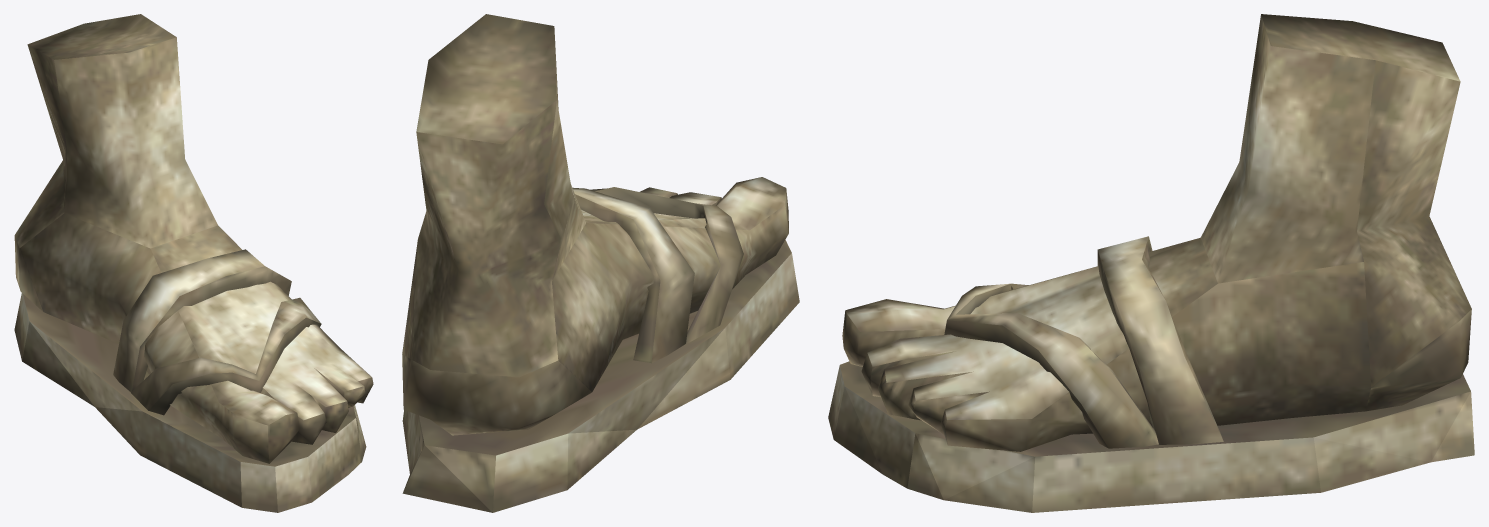
Rendered from ob-bigstatue03.fbx.
3 views of the same model, side by side, from view 1: azimuth 30°, elevation 25°; view 2: azimuth 150°, elevation 25°; view 3: azimuth 270°, elevation 25° (orthographic). The views are drawn at different scales.
Parts seen in each view (by area): view 1: Box503; view 2: Box503; view 3: Box503.
Boxes of the visible parts, x1=… form: Box503: x1=14, y1=14, x2=373, y2=512; Box503: x1=402, y1=14, x2=799, y2=512; Box503: x1=828, y1=14, x2=1474, y2=512.
Size of the model in its own units: 1.88 by 2.98 by 4.18.
